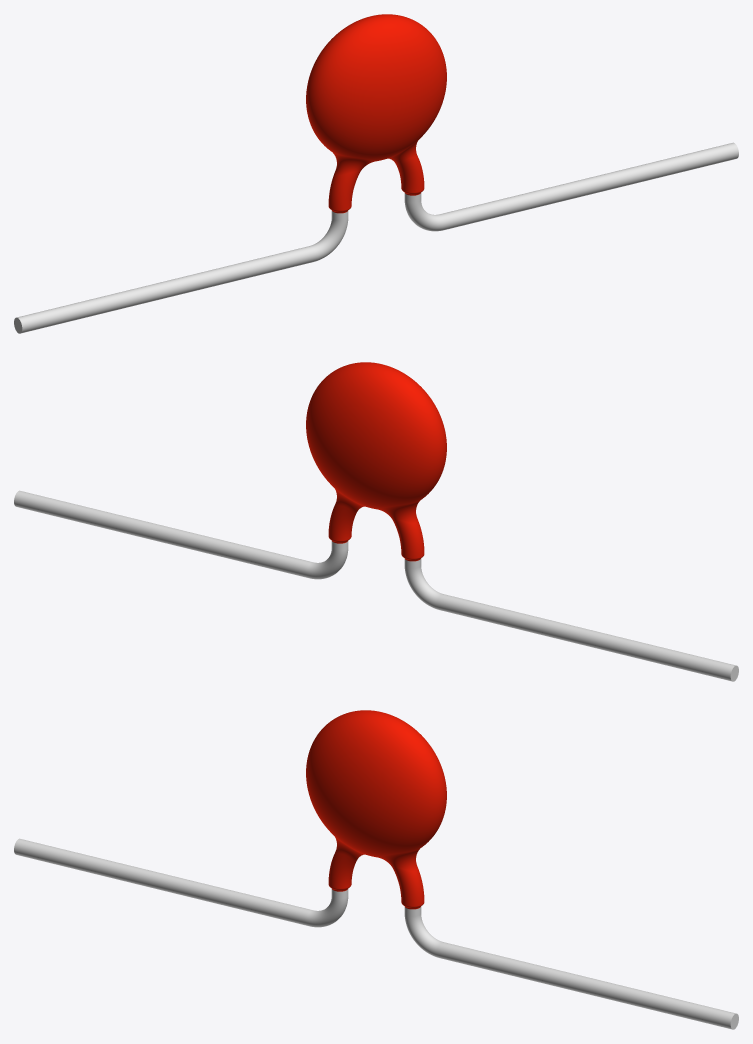
Rendered from CAPTHT.obj.
3 views of the same model, one above another, from view 1: azimuth 30°, elevation 25°; view 2: azimuth 150°, elevation 25°; view 3: azimuth 330°, elevation 25° (orthographic).
Visible parts, largest first — view 1: Solid1; view 2: Solid1; view 3: Solid1.
Boxes of the visible parts, x1,y1,x2,y2 form: Solid1: (14, 14, 738, 333); Solid1: (14, 362, 738, 681); Solid1: (14, 710, 738, 1029).
Bounding box in the file's own units: 25 × 7.6 × 2.5.
